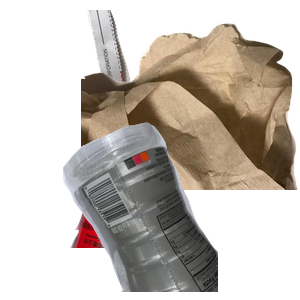glass: (68, 120, 255, 300)
paper: (85, 10, 224, 190)
plastic: (60, 120, 300, 300)
trash: (81, 21, 300, 201)
